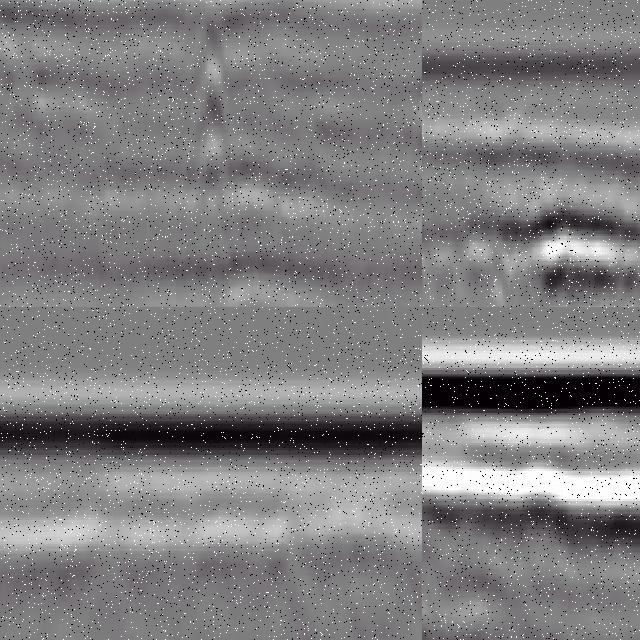crack: (178, 1, 233, 305)
loose: (513, 149, 640, 308), (423, 497, 557, 640)
